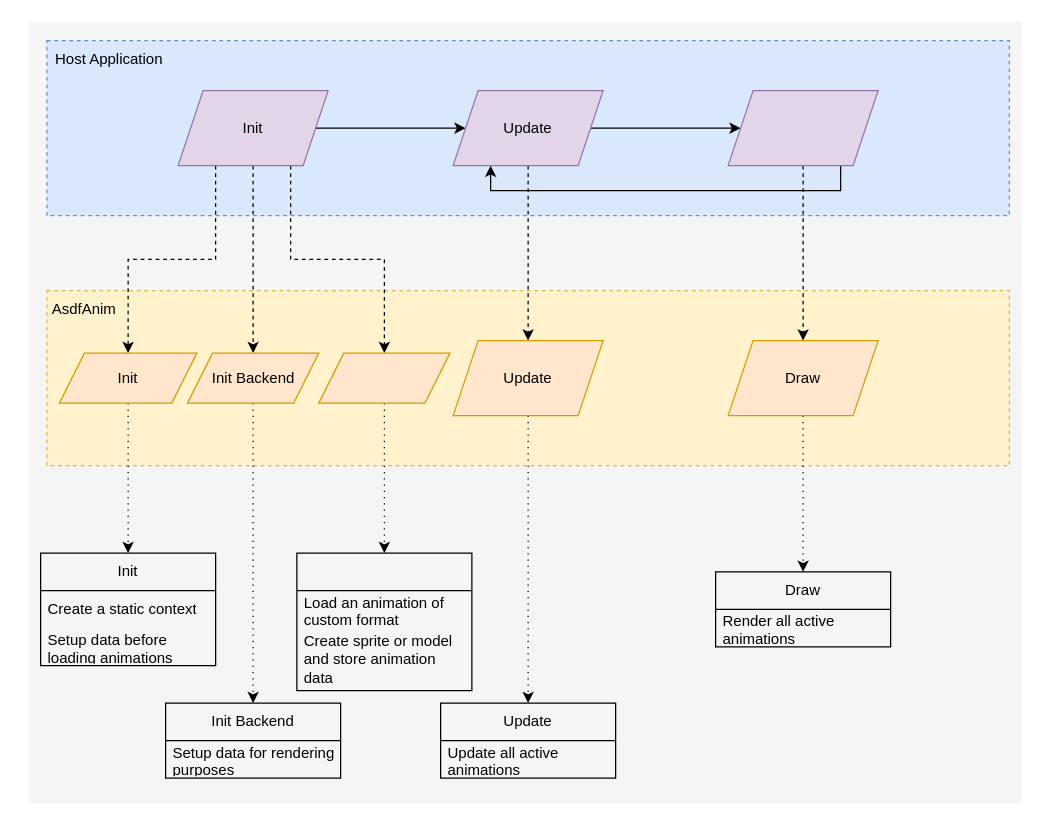
Image size: 1043x824. Some labels were removed from this diagram. The shapes that lost their labels are listed below. From the top down, each one's box as (x1, y1, x2, y2) in pixels, then its label:
(727, 89, 878, 166): Render
(318, 352, 450, 403): Load Anims
(296, 552, 472, 691): Load Animations
